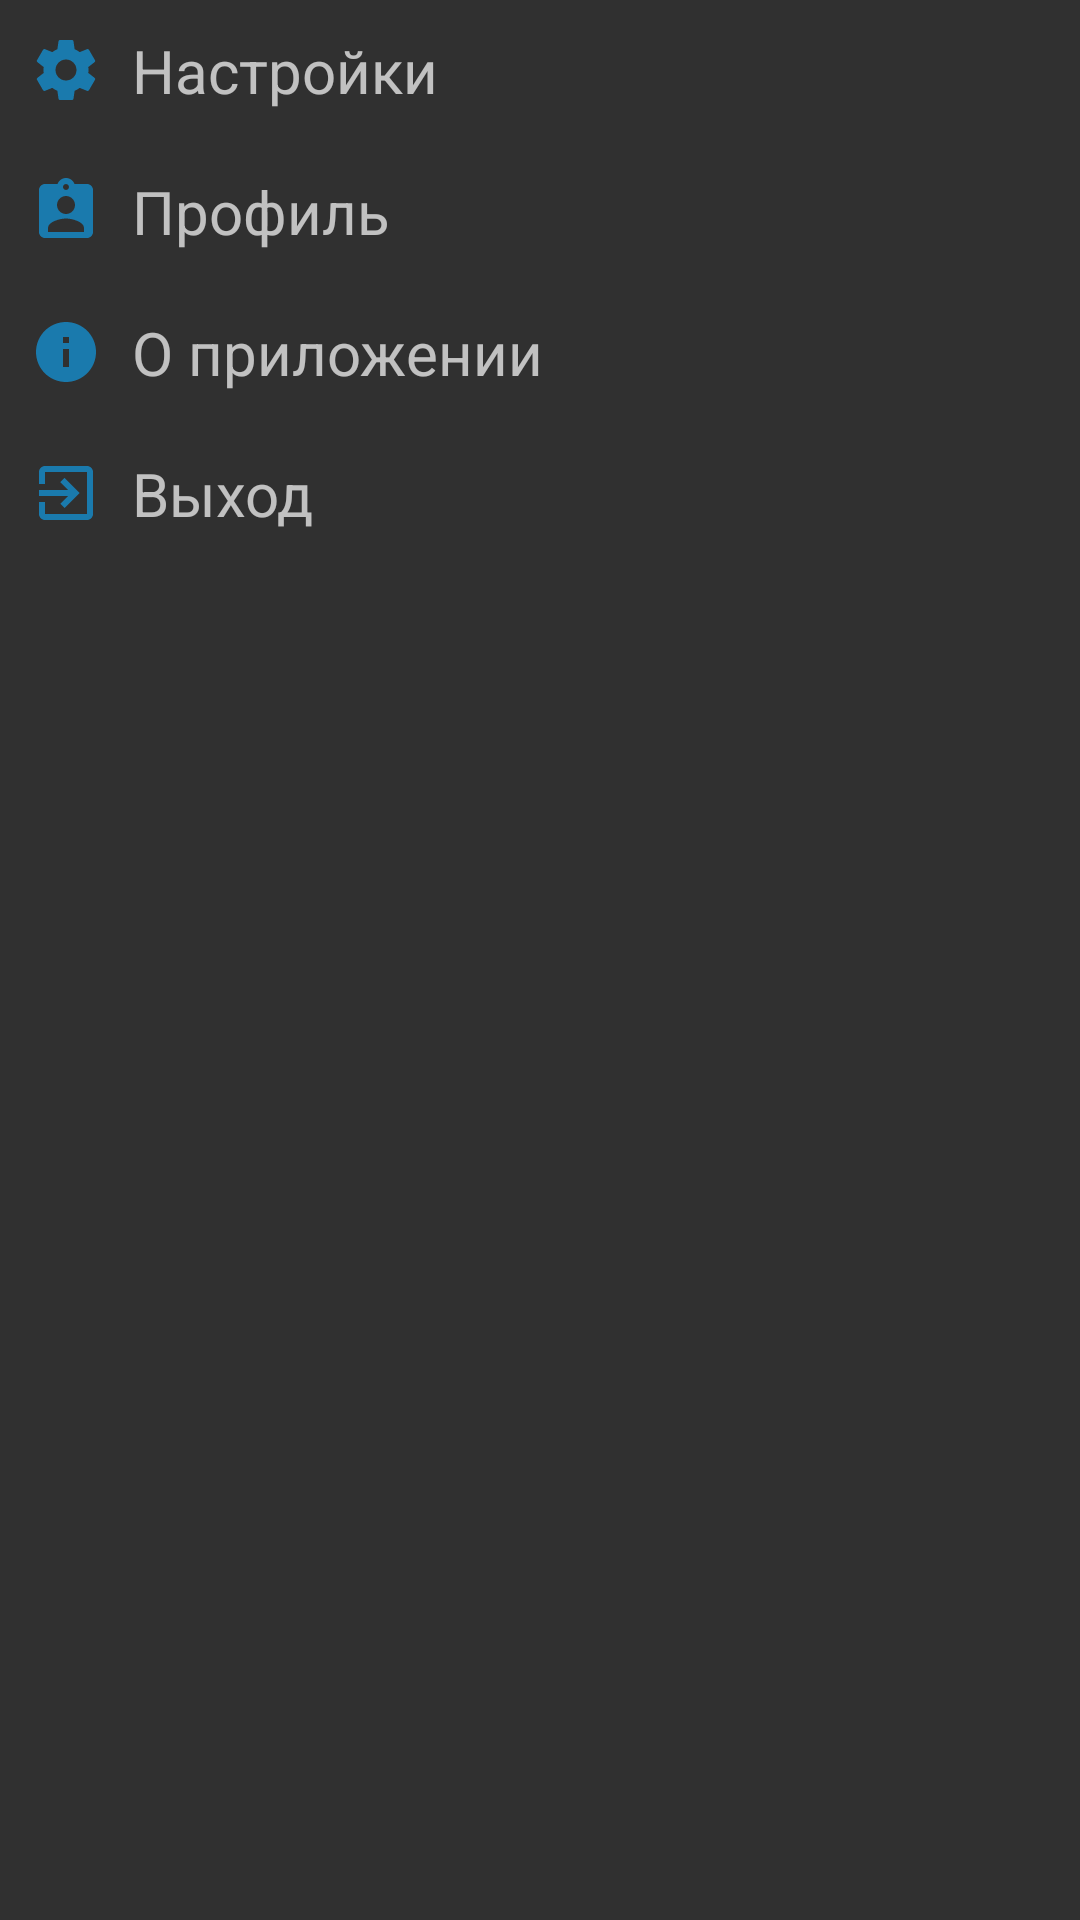

Screen size 1080×1920. Icon name, then its center in pixels as (x,y):
exit to app: (66,493)
info: (66,352)
profile: (66,208)
settings: (66,70)
